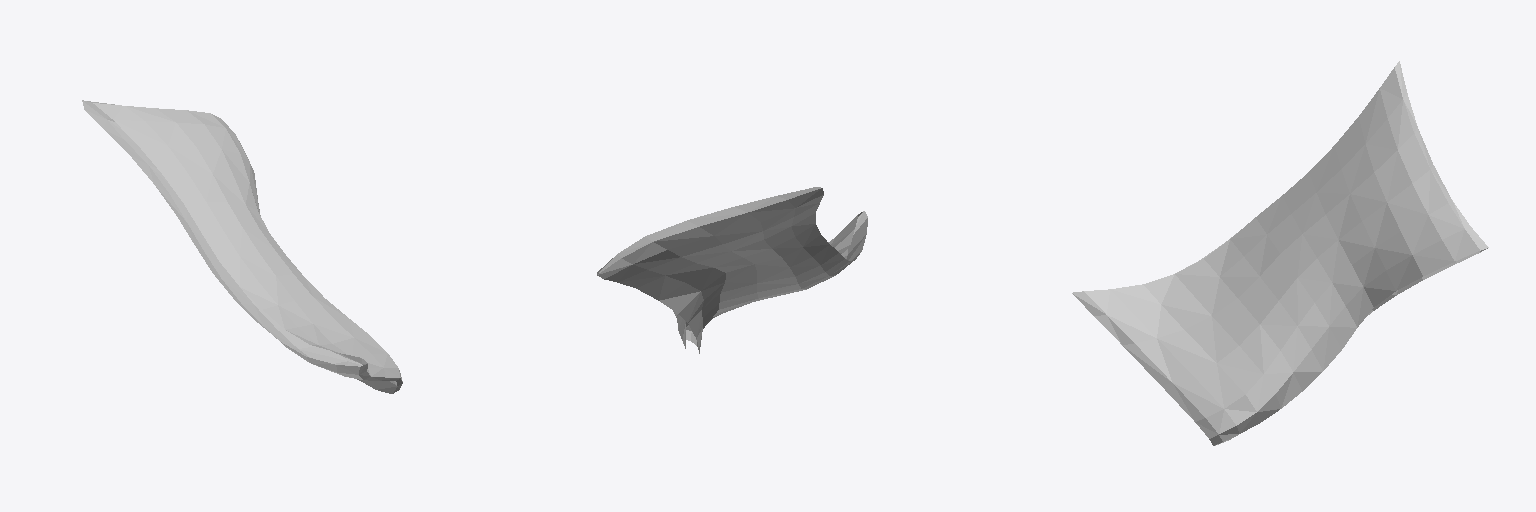
The model's file is hyoglossus_right.obj.
3 renders of one model, left to right at view 1: azimuth 30°, elevation 25°; view 2: azimuth 150°, elevation 25°; view 3: azimuth 270°, elevation 25°, orthographic.
Visible parts, largest first — view 1: Hyoglossus_Muscle_Right; view 2: Hyoglossus_Muscle_Right; view 3: Hyoglossus_Muscle_Right.
Boxes of the visible parts, x1,y1,x2,y2 form: Hyoglossus_Muscle_Right: [82, 100, 402, 393]; Hyoglossus_Muscle_Right: [597, 187, 867, 353]; Hyoglossus_Muscle_Right: [1072, 61, 1488, 445].
Size of the model in its own units: 0.2727 by 0.3191 by 0.4323.